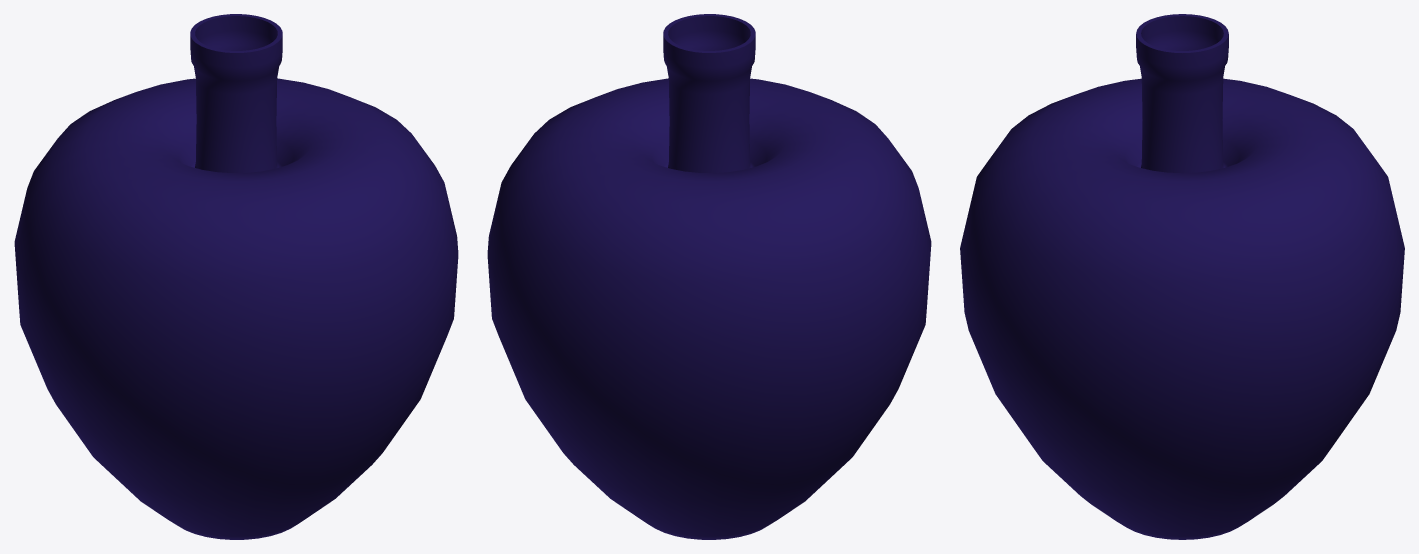
Rendered from BlueGlassBottle.fbx.
3 views of the same model, side by side, from view 1: azimuth 30°, elevation 25°; view 2: azimuth 150°, elevation 25°; view 3: azimuth 270°, elevation 25° (orthographic).
Visible parts, largest first — view 1: BlueGlassBottle; view 2: BlueGlassBottle; view 3: BlueGlassBottle.
Part boxes in pixels (<box>): BlueGlassBottle: <box>14,14,458,539</box>; BlueGlassBottle: <box>487,14,931,539</box>; BlueGlassBottle: <box>960,14,1404,539</box>.
Bounding box in the file's own units: 10.91 × 12.93 × 10.91.
